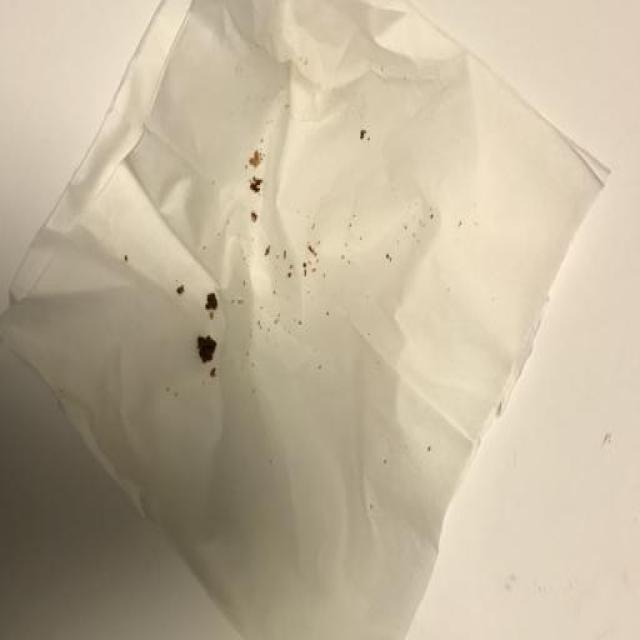Random Trash: (0, 0, 610, 640)
